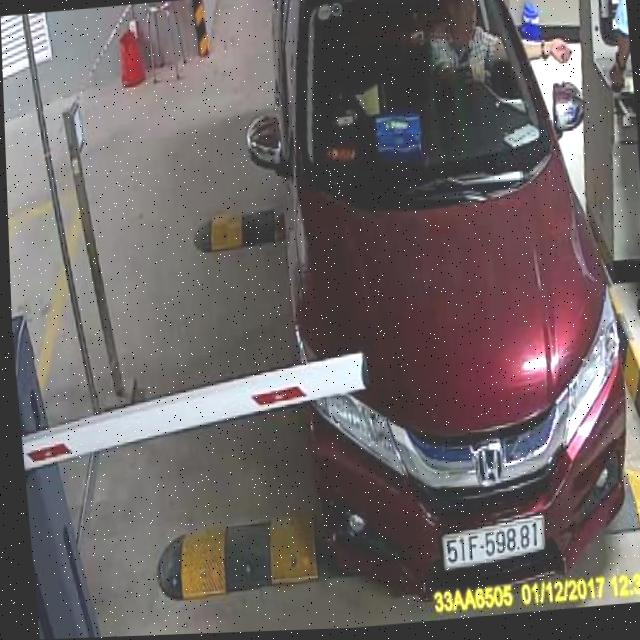car: (228, 0, 640, 600)
plate: (432, 515, 551, 574)
